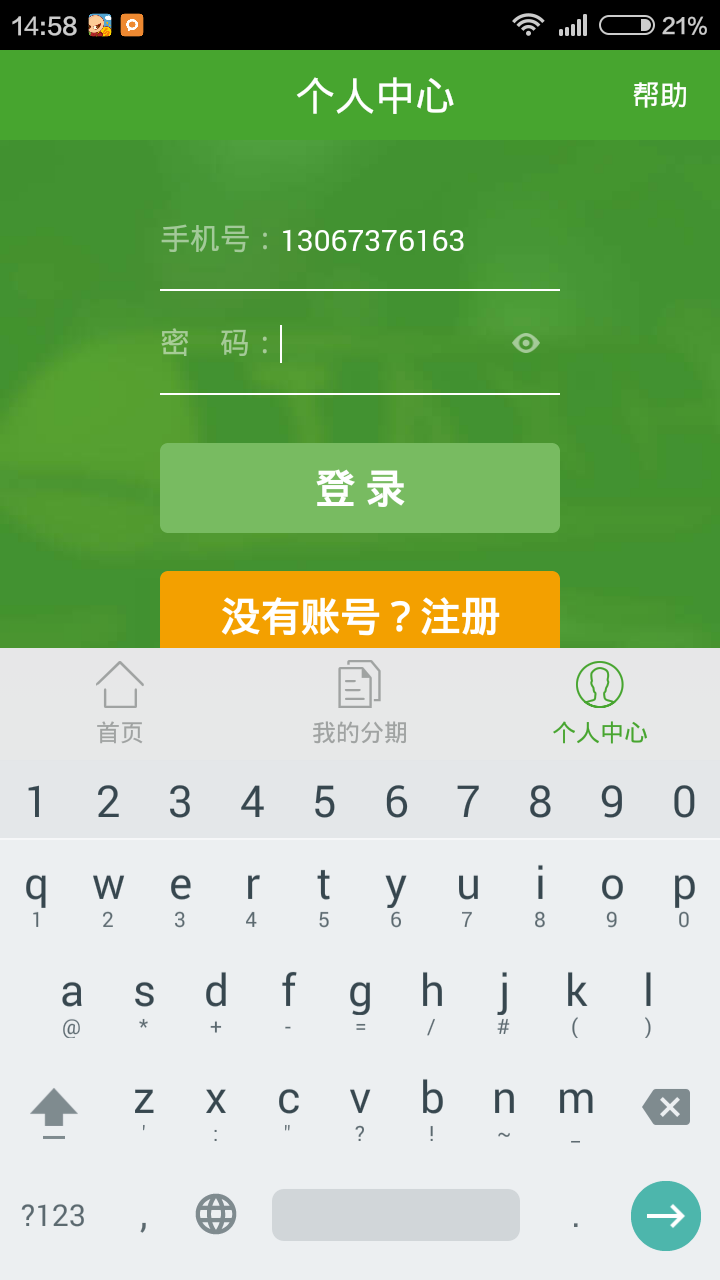button: (147, 428, 574, 556)
imgbutton: (629, 1174, 702, 1256)
nav: (1, 640, 720, 767)
textview: (147, 312, 580, 410), (141, 212, 569, 299)
